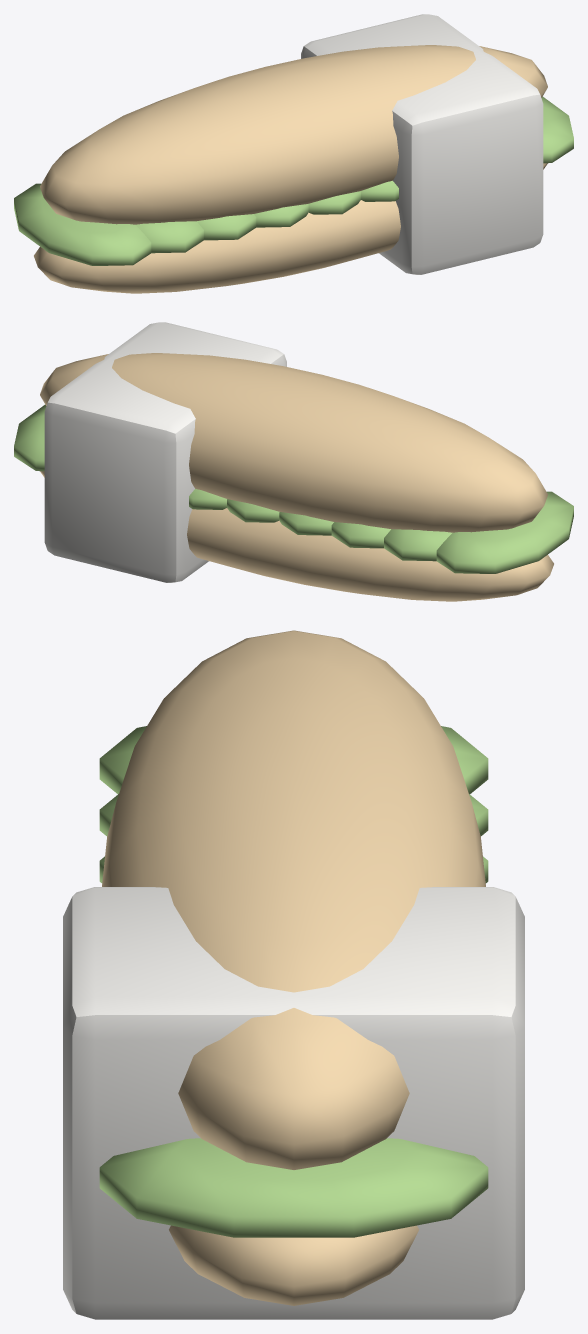
3 views of the same model, one above another, from view 1: azimuth 30°, elevation 25°; view 2: azimuth 150°, elevation 25°; view 3: azimuth 270°, elevation 25° (orthographic). The views are drawn at different scales.
Visible parts, largest first — view 1: Body.006, Trim.005, Filling; view 2: Body.006, Trim.005, Filling; view 3: Body.006, Trim.005, Filling.
Part boxes in pixels (left/top/right/bottom): Body.006: left=34, top=45, right=547, bottom=293; Trim.005: left=301, top=14, right=543, bottom=274; Filling: left=14, top=96, right=573, bottom=265; Body.006: left=40, top=353, right=553, bottom=601; Trim.005: left=44, top=322, right=286, bottom=582; Filling: left=14, top=404, right=573, bottom=573; Body.006: left=102, top=630, right=485, bottom=1305; Trim.005: left=63, top=887, right=524, bottom=1319; Filling: left=99, top=726, right=488, bottom=1237.
Bounding box in the file's own units: 2.23 × 0.74 × 0.86.
